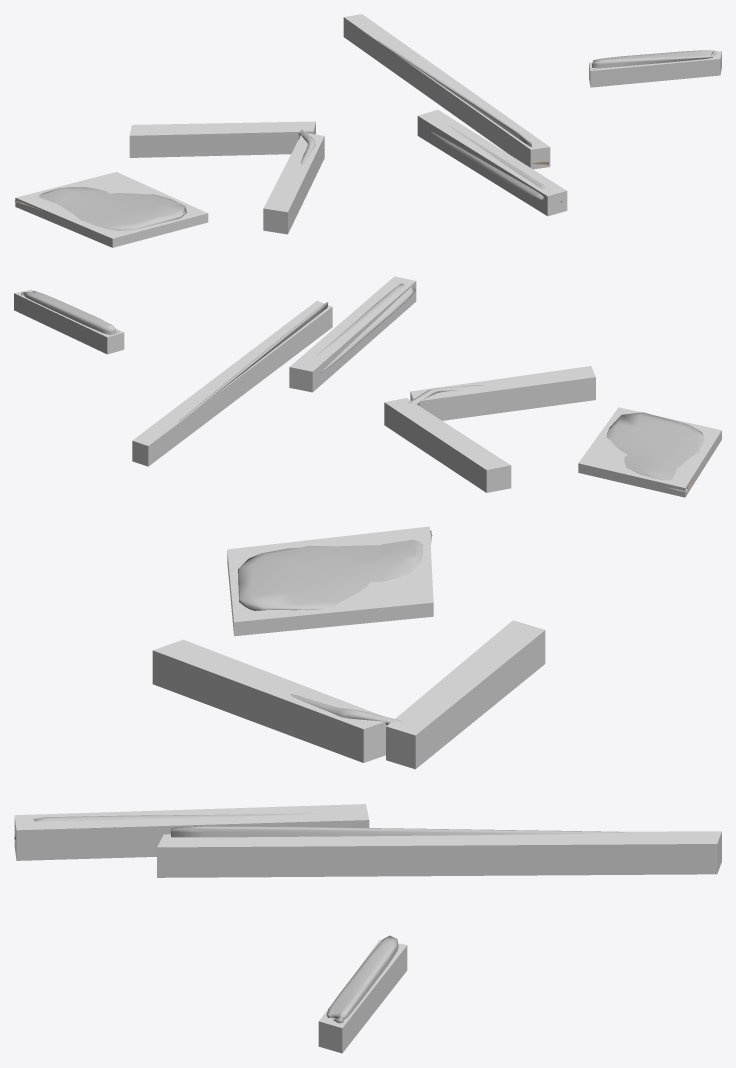
The model's file is Woods.fbx.
3 renders of one model, top to bottom at view 1: azimuth 30°, elevation 25°; view 2: azimuth 150°, elevation 25°; view 3: azimuth 270°, elevation 25°, orthographic. The views are drawn at different scales.
Parts seen in each view (by area): view 1: wood-on-floor_col, snow; view 2: wood-on-floor_col, snow; view 3: wood-on-floor_col, snow.
Part boxes in pixels (<box>): wood-on-floor_col: <box>15,14,721,247</box>; snow: <box>14,28,716,230</box>; wood-on-floor_col: <box>14,276,721,497</box>; snow: <box>21,283,704,492</box>; wood-on-floor_col: <box>14,526,721,1053</box>; snow: <box>14,530,627,1023</box>.
Size of the model in its own units: 254 by 10.53 by 150.
